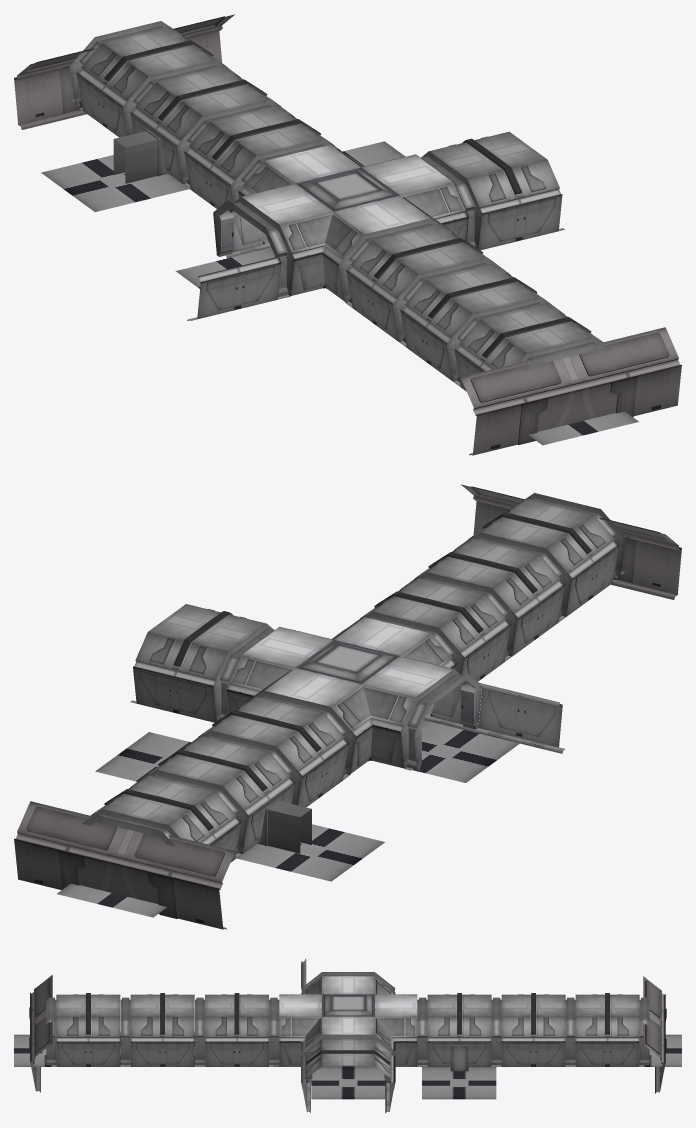
Rendered from env_kam_hallway_01b_pre.glb.
3 views of the same model, one above another, from view 1: azimuth 30°, elevation 25°; view 2: azimuth 150°, elevation 25°; view 3: azimuth 270°, elevation 25° (orthographic). The views are drawn at different scales.
Visible parts, largest first — view 1: kam_ceiling_01a_mesh (×3), kam_wall_06_mesh, kam_ceiling_01a_mesh (1) (×2), kam_ceiling_01a_mesh (2) (×2), kam_wall_04_mesh (×3), kam_arch_01_mesh (1) (×4), kam_wall_06_mesh (1), kam_wall_05_mesh, kam_ceiling_01c_mesh (×2), kam_floor_01_mesh (5), kam_wall_05_mesh (1) (×2), kam_wall_door_01b_mesh (+13 smaller); view 2: kam_ceiling_01a_mesh (×3), kam_wall_06_mesh (1), kam_ceiling_01a_mesh (1) (×2), kam_ceiling_01a_mesh (2) (×2), kam_arch_01_mesh (1) (×4), kam_wall_04_mesh (×2), kam_wall_04_mesh (1) (×2), kam_wall_06_mesh, kam_wall_05_mesh (1), kam_ceiling_01c_mesh (×2), kam_floor_01_mesh (5), kam_wall_05_mesh (×2) (+13 smaller); view 3: kam_ceiling_01a_mesh (×3), kam_ceiling_01a_mesh (1) (×2), kam_ceiling_01a_mesh (2) (×2), kam_arch_01_mesh (1) (×4), kam_floor_01_mesh (4), kam_floor_01_mesh (7), kam_wall_04_mesh (1) (×2), kam_wall_door_01_mesh, kam_ceiling_01c_mesh (×2), kam_wall_04_mesh (5), kam_wall_04_mesh (2), kam_wall_04_mesh (4) (+13 smaller).
Part boxes in pixels (left/top/right/bottom): kam_ceiling_01a_mesh (×3): left=189, top=105, right=559, bottom=298; kam_wall_06_mesh: left=460, top=327, right=681, bottom=455; kam_ceiling_01a_mesh (1) (×2): left=135, top=66, right=554, bottom=337; kam_ceiling_01a_mesh (2) (×2): left=81, top=26, right=602, bottom=368; kam_wall_04_mesh (×3): left=187, top=188, right=564, bottom=344; kam_arch_01_mesh (1) (×4): left=213, top=139, right=481, bottom=303; kam_wall_06_mesh (1): left=14, top=14, right=234, bottom=129; kam_wall_05_mesh: left=280, top=212, right=364, bottom=305; kam_ceiling_01c_mesh (×2): left=264, top=145, right=430, bottom=234; kam_floor_01_mesh (5): left=41, top=155, right=189, bottom=211; kam_wall_05_mesh (1) (×2): left=226, top=161, right=468, bottom=258; kam_wall_door_01b_mesh: left=113, top=107, right=189, bottom=186; kam_ceiling_01a_mesh (×3): left=135, top=578, right=506, bottom=770; kam_wall_06_mesh (1): left=14, top=801, right=235, bottom=929; kam_ceiling_01a_mesh (1) (×2): left=138, top=538, right=560, bottom=810; kam_ceiling_01a_mesh (2) (×2): left=90, top=498, right=614, bottom=842; kam_arch_01_mesh (1) (×4): left=213, top=611, right=481, bottom=775; kam_wall_04_mesh (×2): left=460, top=620, right=565, bottom=753; kam_wall_04_mesh (1) (×2): left=130, top=660, right=349, bottom=807; kam_wall_06_mesh: left=461, top=484, right=681, bottom=599; kam_wall_05_mesh (1): left=331, top=684, right=415, bottom=777; kam_ceiling_01c_mesh (×2): left=264, top=617, right=430, bottom=706; kam_floor_01_mesh (5): left=237, top=824, right=384, bottom=881; kam_wall_05_mesh (×2): left=226, top=633, right=469, bottom=730; kam_ceiling_01a_mesh (×3): left=205, top=993, right=491, bottom=1079; kam_ceiling_01a_mesh (1) (×2): left=130, top=993, right=565, bottom=1037; kam_ceiling_01a_mesh (2) (×2): left=56, top=993, right=639, bottom=1037; kam_arch_01_mesh (1) (×4): left=269, top=972, right=427, bottom=1082; kam_floor_01_mesh (4): left=422, top=1067, right=496, bottom=1099; kam_floor_01_mesh (7): left=311, top=1067, right=385, bottom=1099; kam_wall_04_mesh (1) (×2): left=200, top=1037, right=395, bottom=1113; kam_wall_door_01_mesh: left=422, top=1037, right=496, bottom=1071; kam_ceiling_01c_mesh (×2): left=279, top=994, right=417, bottom=1016; kam_wall_04_mesh (5): left=51, top=1037, right=125, bottom=1066; kam_wall_04_mesh (2): left=496, top=1037, right=570, bottom=1066; kam_wall_04_mesh (4): left=570, top=1037, right=644, bottom=1066.
Bounding box in the file's own units: 26.3 × 5.52 × 59.1.
Materials: 8 (8 with a texture image).
